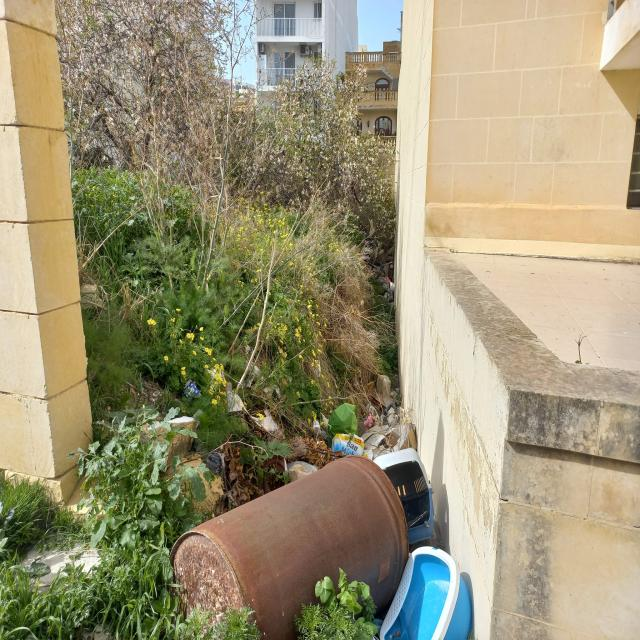Bottle: (192, 408, 205, 428)
Carton: (226, 380, 278, 433), (182, 378, 202, 407)
Other litter: (169, 456, 409, 640), (360, 372, 418, 460), (255, 453, 288, 497), (328, 402, 358, 445), (425, 520, 446, 551), (313, 413, 329, 441), (204, 368, 225, 389), (241, 373, 254, 387), (271, 383, 281, 400)
Other plastic: (374, 546, 472, 640), (373, 447, 435, 544), (13, 532, 106, 593), (330, 433, 364, 458), (287, 459, 318, 482)
Plastic bag - wrapper: (193, 441, 222, 476)
